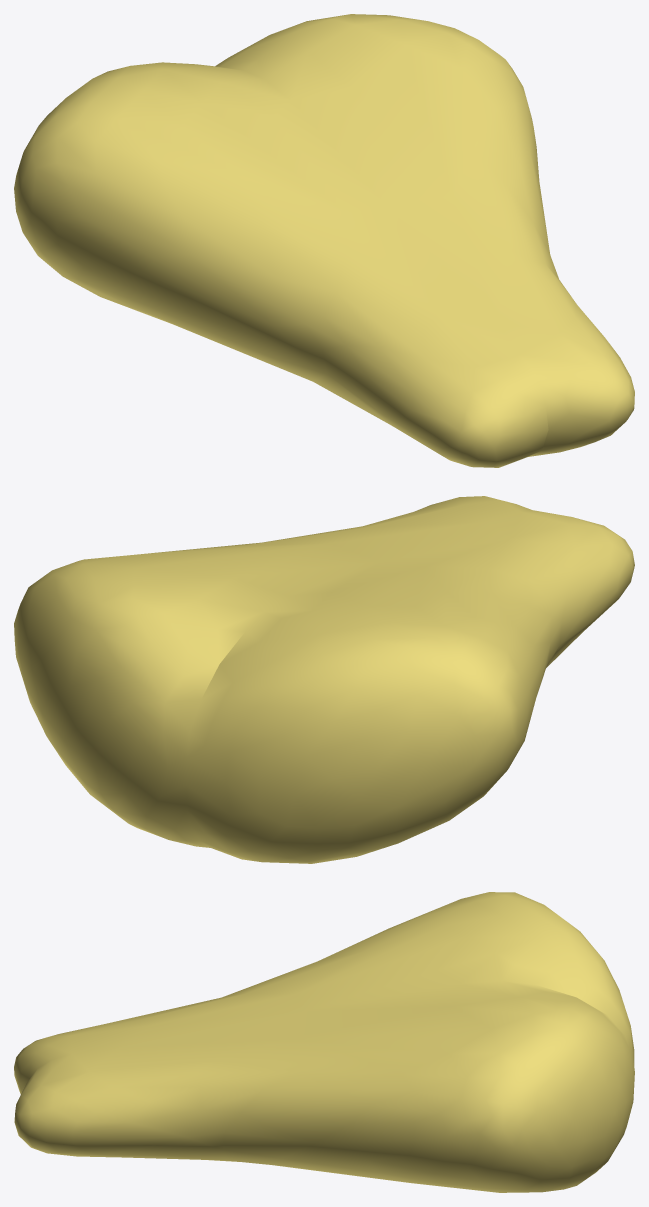
The model's file is folium-of-vermis.glb.
3 renders of one model, top to bottom at view 1: azimuth 30°, elevation 25°; view 2: azimuth 150°, elevation 25°; view 3: azimuth 270°, elevation 25°, orthographic. The views are drawn at different scales.
Visible parts, largest first — view 1: Folium of vermis; view 2: Folium of vermis; view 3: Folium of vermis.
Part boxes in pixels (x1,y1,x2,y2): Folium of vermis: [14, 14, 634, 467]; Folium of vermis: [14, 496, 634, 863]; Folium of vermis: [14, 892, 634, 1192].
Bounding box in the file's own units: 0.0133 × 0.00608 × 0.0172.
